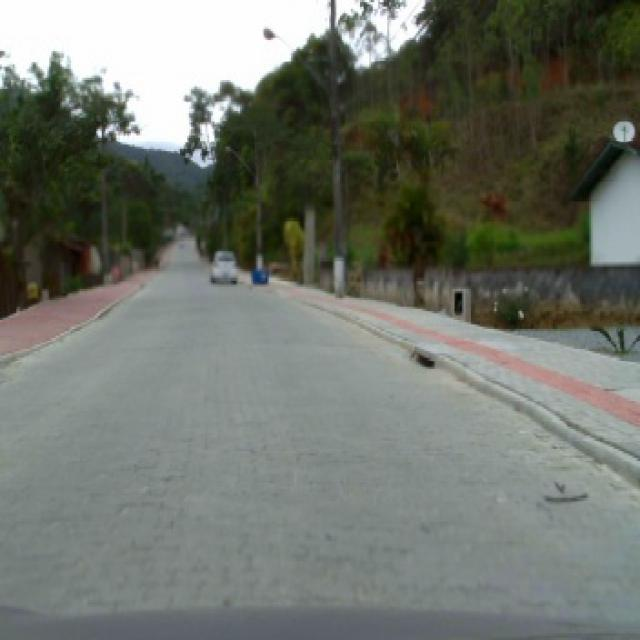Poth-hole: (412, 347, 434, 369)
